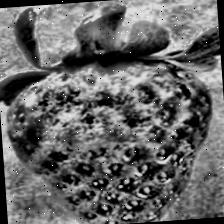Powdery Mildew Fruit: (0, 50, 212, 190)
